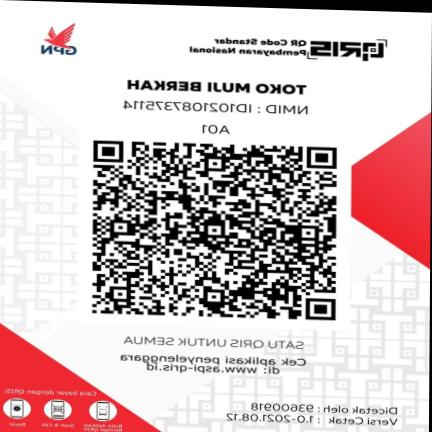Barcode_Asli: (77, 133, 353, 331)
